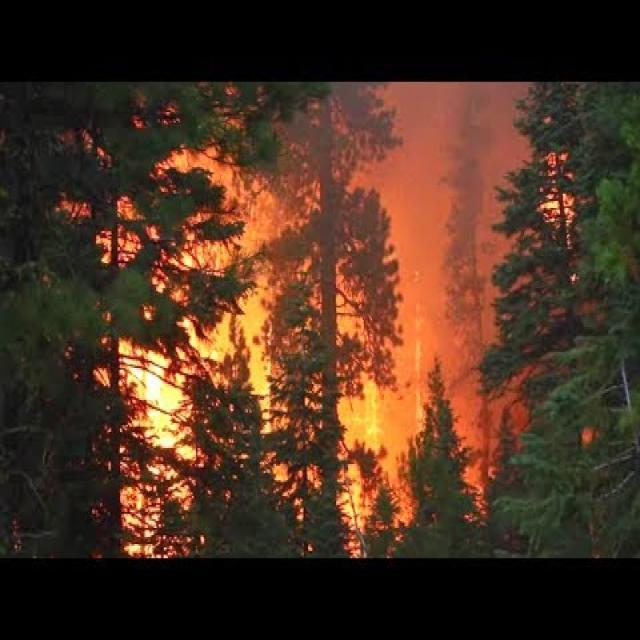Fire: (111, 327, 203, 560), (528, 139, 587, 247), (410, 264, 442, 436), (358, 335, 391, 477)
